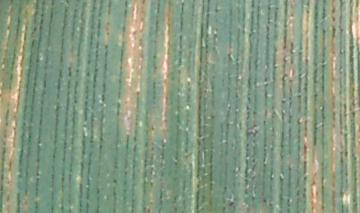tarspot: (226, 199, 239, 210)
